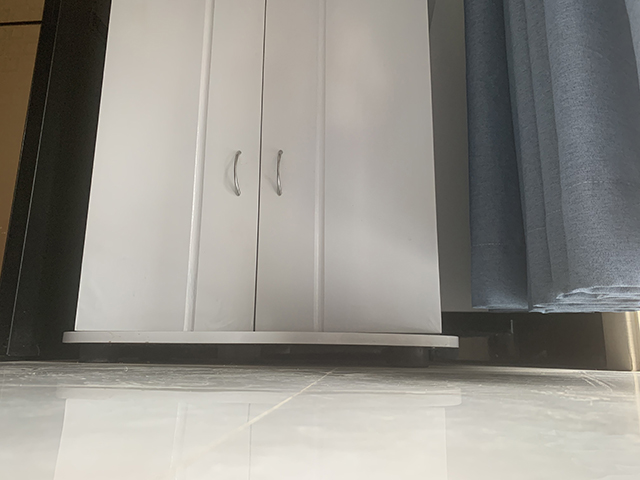cabinet: (61, 1, 462, 368)
curtain: (463, 1, 639, 318)
